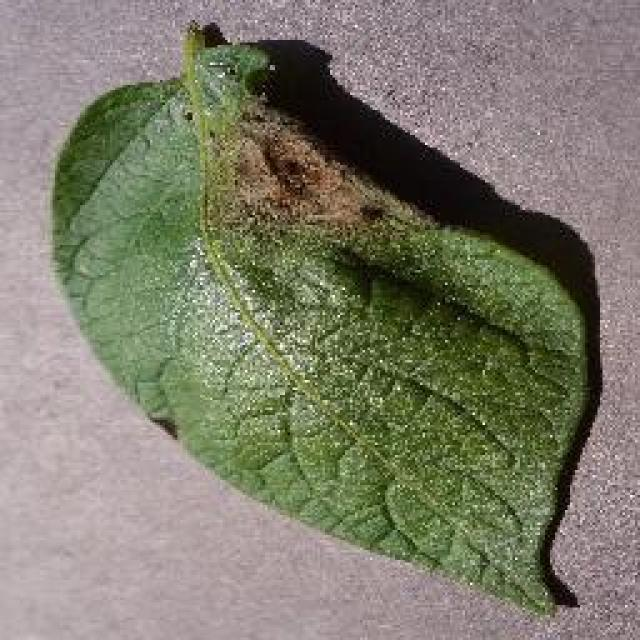Potato___Late_blight: (45, 15, 591, 617)
